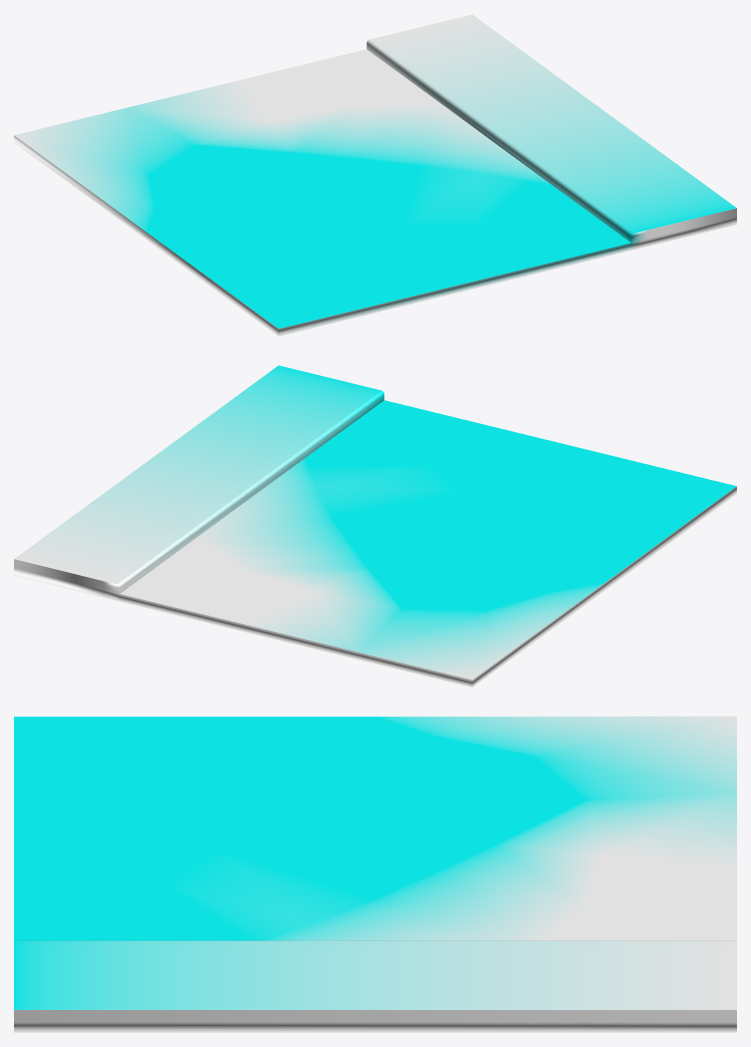
The picture shows the model from 3 angles, top to bottom: view 1: azimuth 30°, elevation 25°; view 2: azimuth 150°, elevation 25°; view 3: azimuth 270°, elevation 25°; orthographic projection. The views are drawn at different scales.
Parts seen in each view (by area): view 1: SM_Module_4x4_06_LOD0; view 2: SM_Module_4x4_06_LOD0; view 3: SM_Module_4x4_06_LOD0.
Boxes of the visible parts, left/top/right/bottom form: SM_Module_4x4_06_LOD0: left=14, top=14, right=736, bottom=336; SM_Module_4x4_06_LOD0: left=14, top=365, right=736, bottom=687; SM_Module_4x4_06_LOD0: left=14, top=716, right=736, bottom=1032.
Bounding box in the file's own units: 400 × 400 × 13.86.
